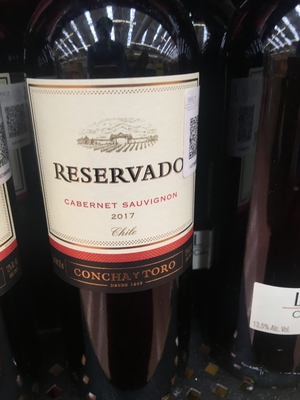reservado cabernet sauvignon: (24, 6, 210, 378)
